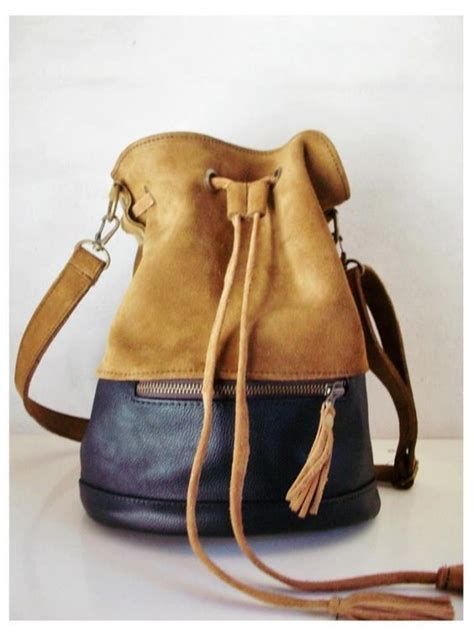gamuza: (104, 129, 374, 379)
